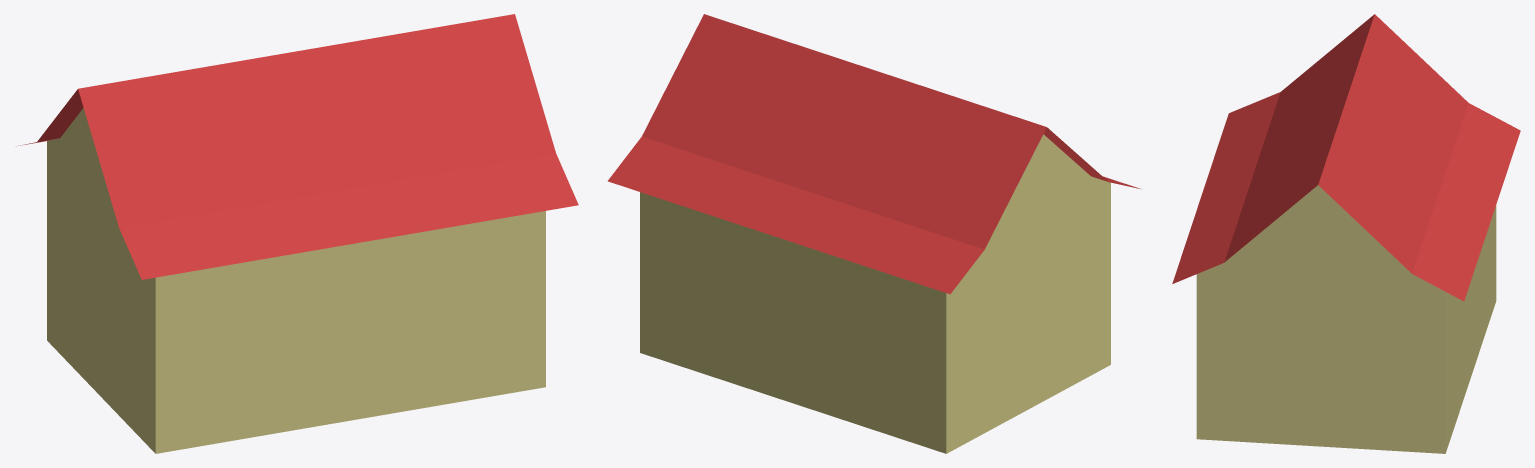
3 renders of one model, left to right at view 1: azimuth 30°, elevation 25°; view 2: azimuth 150°, elevation 25°; view 3: azimuth 270°, elevation 25°, orthographic. The views are drawn at different scales.
Size of the model in its own units: 20.47 by 16.02 by 13.73.
